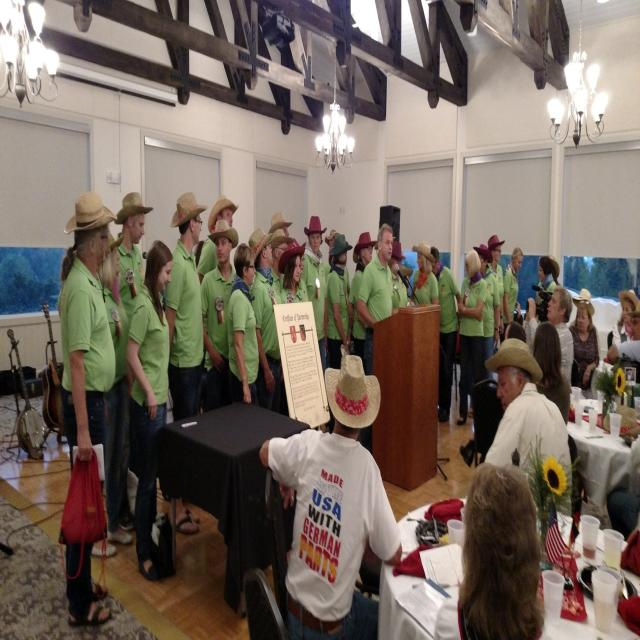body: (253, 348, 405, 639), (424, 459, 598, 638), (50, 186, 118, 631), (482, 336, 574, 516), (125, 238, 173, 582), (164, 190, 205, 538), (98, 226, 135, 546), (459, 320, 528, 468), (249, 227, 284, 490), (357, 221, 395, 457), (200, 218, 240, 410), (430, 245, 464, 422), (110, 190, 155, 322), (456, 248, 488, 426), (226, 242, 260, 407), (76, 469, 136, 561), (300, 213, 328, 381), (532, 320, 572, 428), (193, 195, 240, 286), (568, 286, 603, 401), (351, 231, 378, 375), (326, 232, 354, 370), (473, 242, 501, 378), (568, 299, 600, 392), (348, 231, 373, 327), (606, 299, 640, 365), (322, 228, 352, 299), (486, 234, 506, 336), (277, 241, 308, 304), (409, 242, 439, 306), (502, 245, 524, 328), (611, 288, 640, 346), (387, 240, 408, 316), (535, 254, 557, 312), (291, 236, 309, 303), (266, 209, 292, 245), (447, 533, 449, 536)
